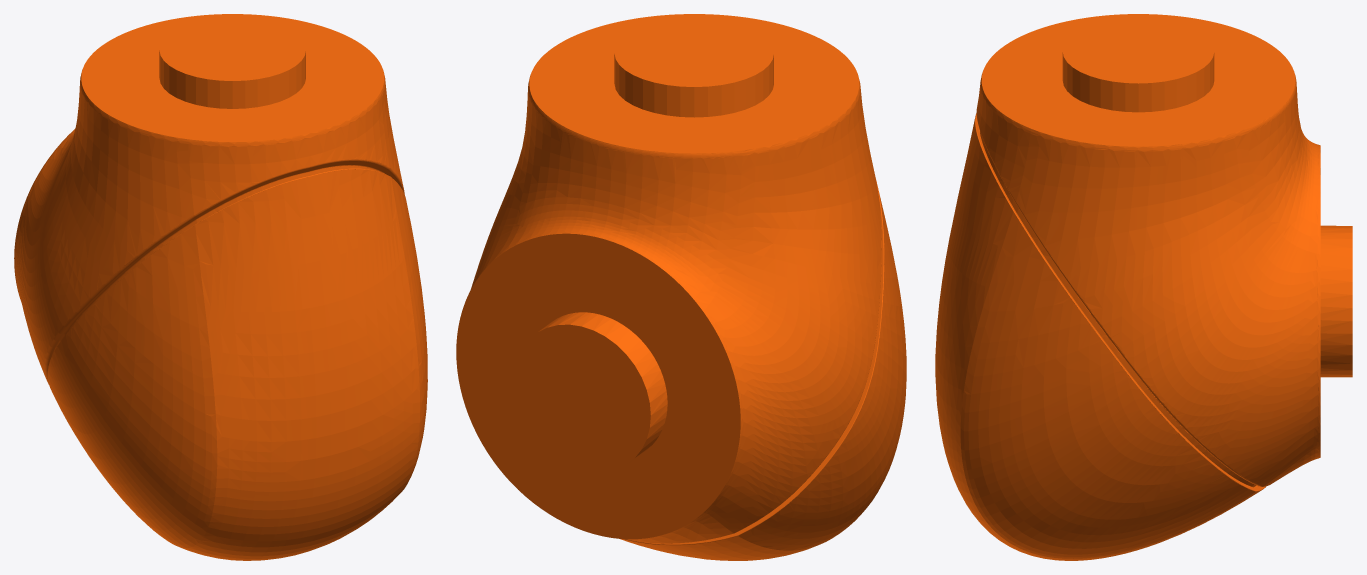
The model's file is link_6_vis.obj.
The picture shows the model from 3 angles, left to right: view 1: azimuth 30°, elevation 25°; view 2: azimuth 150°, elevation 25°; view 3: azimuth 270°, elevation 25°; orthographic projection. The views are drawn at different scales.
Visible parts, largest first — view 1: Link_6_Vis; view 2: Link_6_Vis; view 3: Link_6_Vis.
Part boxes in pixels (left/top/right/bottom): Link_6_Vis: left=14, top=14, right=427, bottom=560; Link_6_Vis: left=456, top=14, right=906, bottom=560; Link_6_Vis: left=935, top=14, right=1352, bottom=560.
Size of the model in its own units: 0.1323 by 0.1774 by 0.1374.
